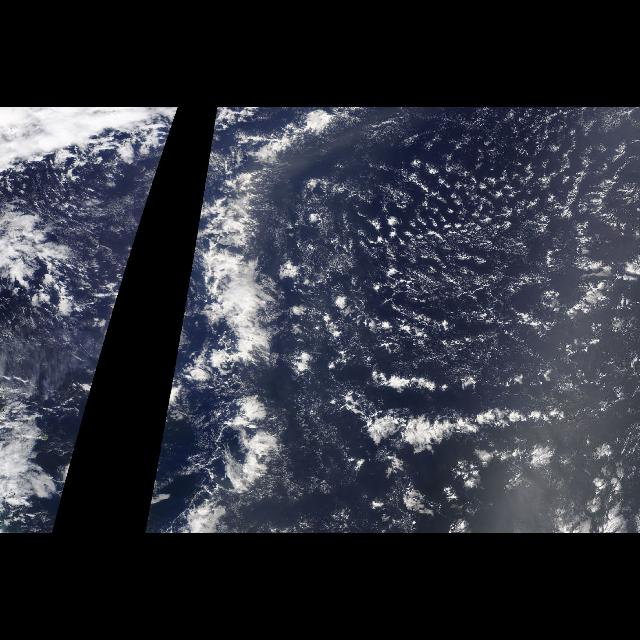Fish: (201, 107, 311, 533)
Flower: (363, 149, 631, 405)
